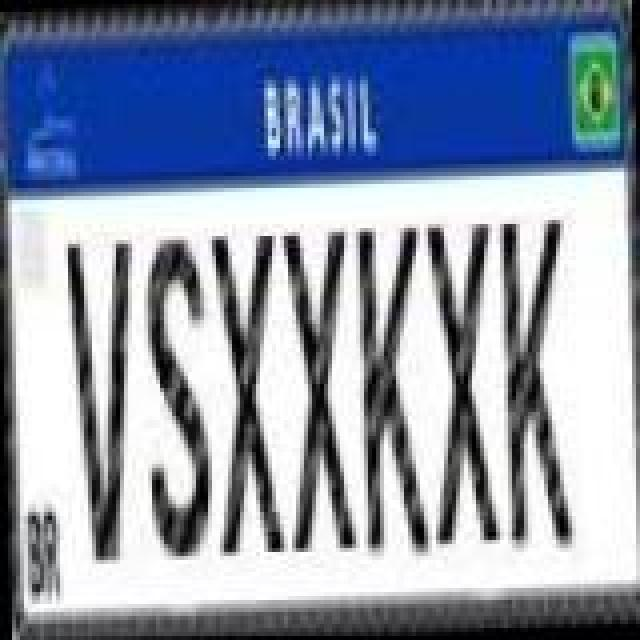K: (352, 224, 428, 564), (496, 216, 572, 556)
S: (140, 224, 216, 564)
V: (62, 234, 142, 562)
X: (278, 224, 358, 552), (208, 228, 284, 556), (420, 218, 496, 546)
